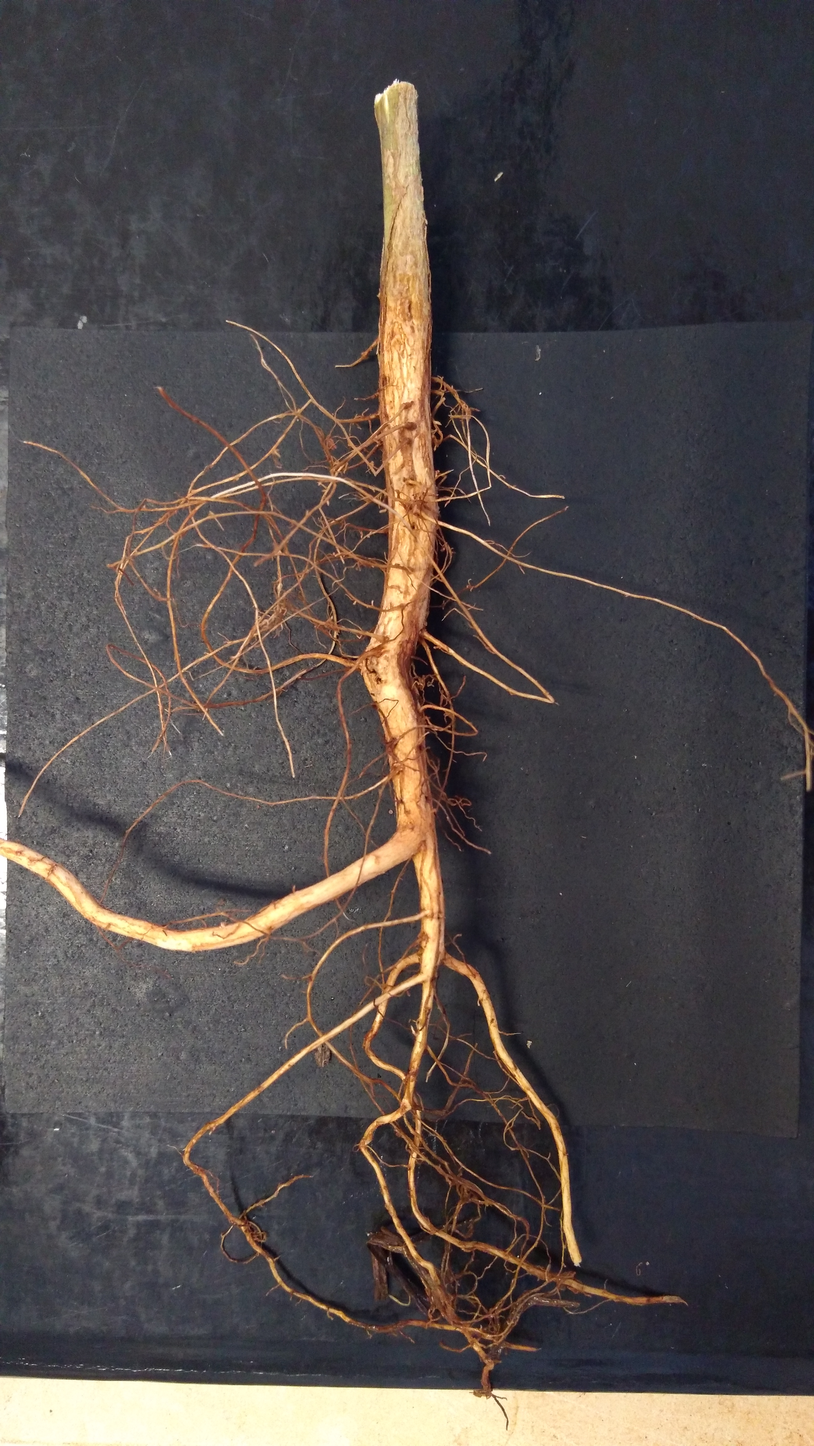nodule: (425, 1273, 454, 1309), (458, 1179, 482, 1204), (314, 1042, 331, 1068), (556, 1270, 576, 1291), (473, 1388, 491, 1398), (326, 434, 337, 450), (369, 460, 375, 469), (434, 469, 440, 478), (440, 543, 446, 552), (526, 1040, 532, 1049), (388, 809, 394, 815)
